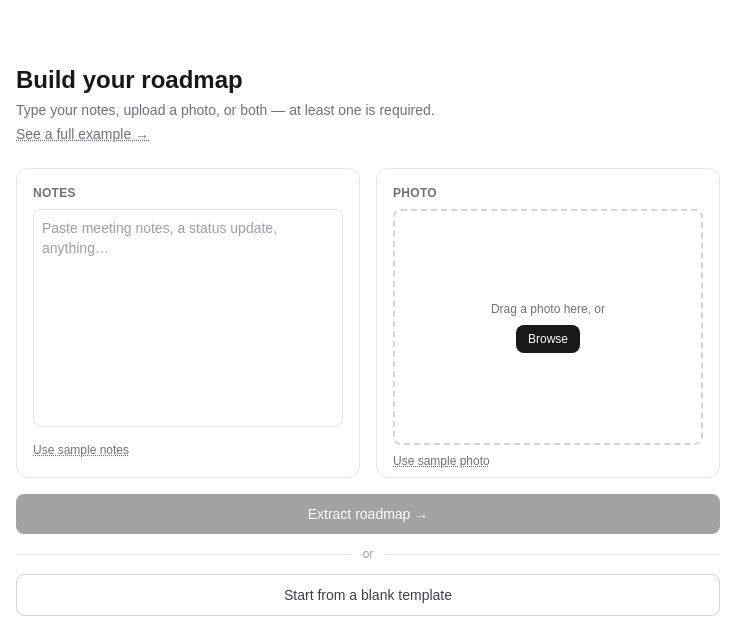
PortfolioLandingPage — empty Portfolio (wayframe#123) › surfaces a create error inline rather than silently failing
Click the button "Start from a blank template": x=368, y=595 left=16, top=574, right=720, bottom=616
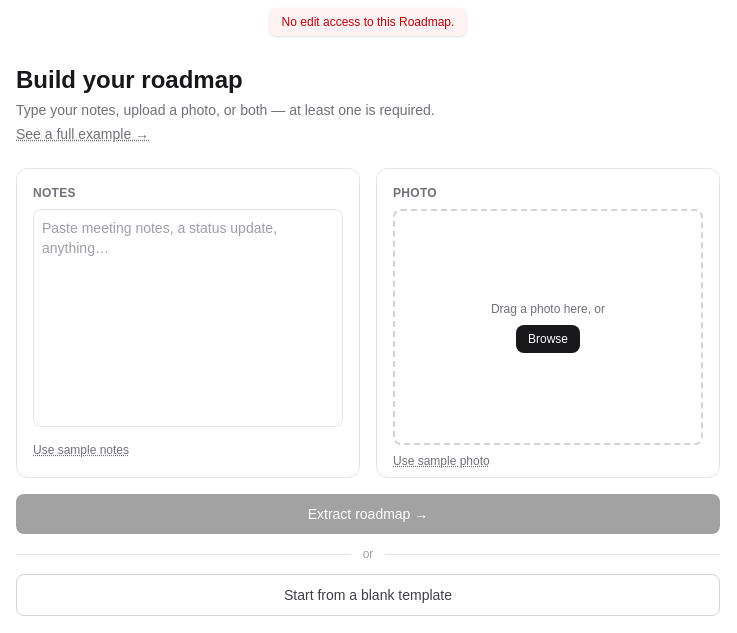
expect the text "No edit access to this Roadmap." is shown: met, box left=270, top=8, right=466, bottom=36
